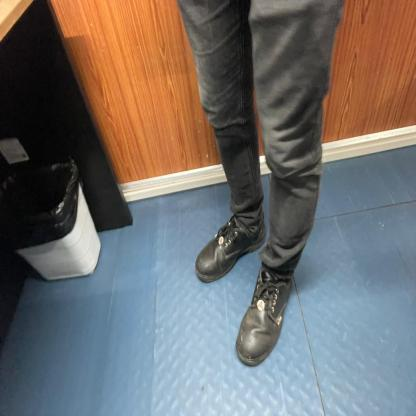bota: (235, 267, 293, 368), (195, 206, 268, 284)
